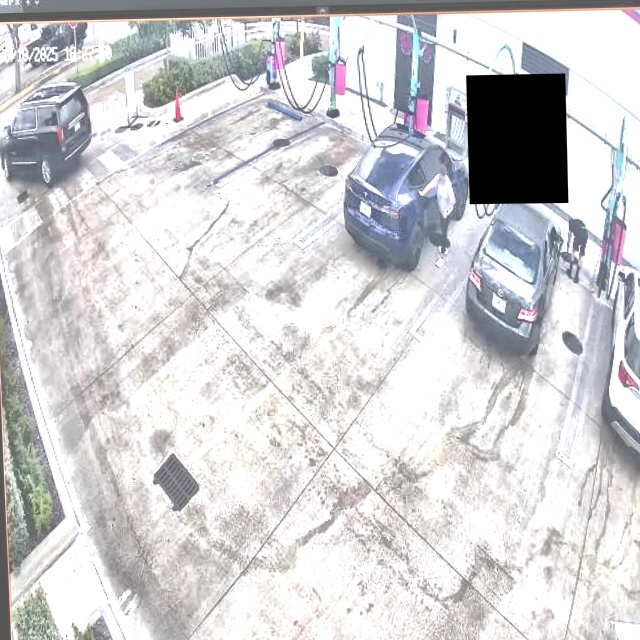Car: (340, 121, 472, 267), (466, 193, 562, 356)
